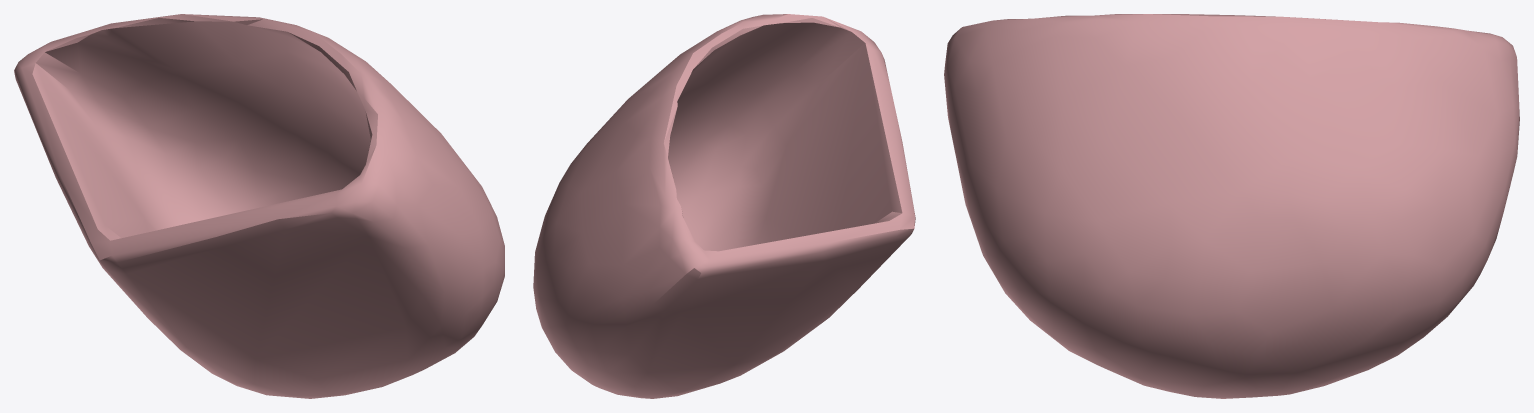
The model's file is fma7254_fj2426.glb.
3 renders of one model, left to right at view 1: azimuth 30°, elevation 25°; view 2: azimuth 150°, elevation 25°; view 3: azimuth 270°, elevation 25°, orthographic. The views are drawn at different scales.
Parts seen in each view (by area): view 1: FMA7254_FJ2426; view 2: FMA7254_FJ2426; view 3: FMA7254_FJ2426.
Part boxes in pixels (x1,y1,x2,y2): FMA7254_FJ2426: [14, 14, 504, 398]; FMA7254_FJ2426: [533, 14, 915, 398]; FMA7254_FJ2426: [944, 14, 1519, 398].
Bounding box in the file's own units: 0.0158 × 0.0144 × 0.0202.
